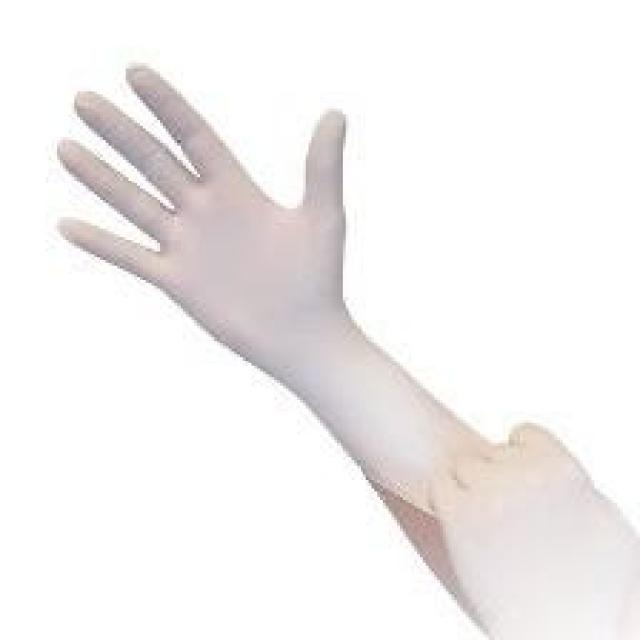Glove: (5, 43, 640, 640)
